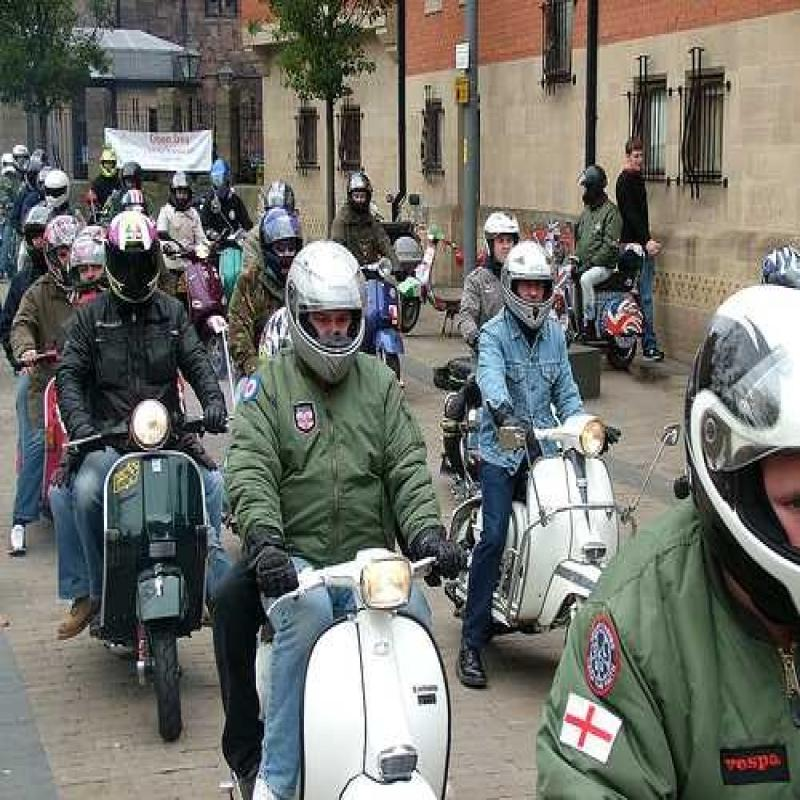bike: (291, 530, 464, 800), (87, 395, 218, 719), (514, 393, 633, 652)
